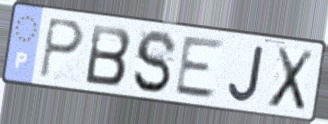B: (83, 22, 134, 88)
E: (172, 35, 227, 101)
J: (226, 43, 267, 104)
P: (38, 16, 86, 81)
S: (130, 28, 179, 96)
X: (265, 45, 316, 114)
